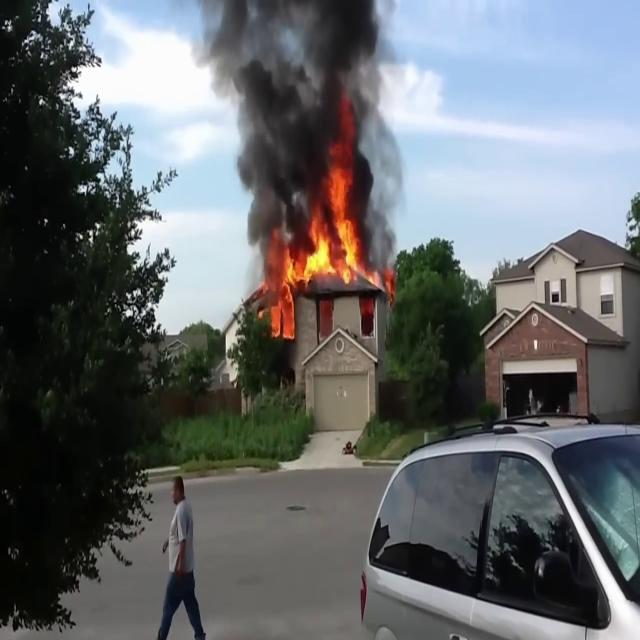Fire: (270, 166, 366, 332), (270, 238, 304, 336)
Smoke: (202, 0, 404, 242)
